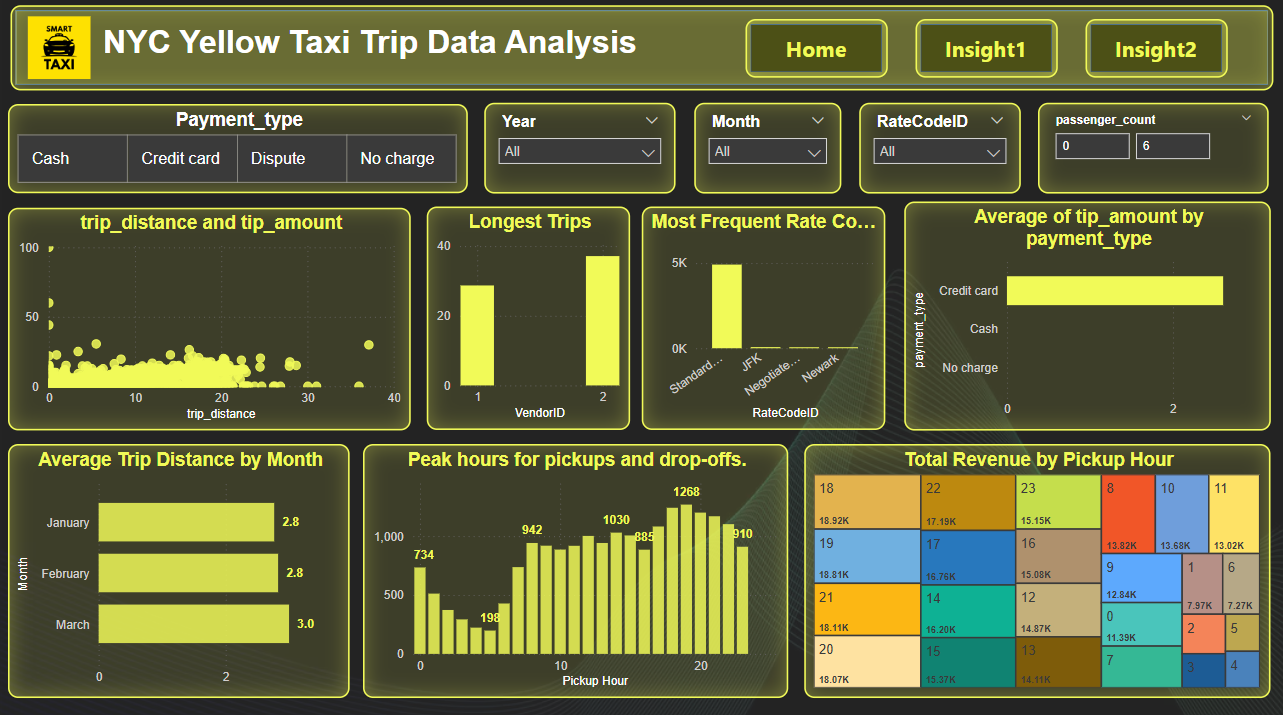

What the dashboard file says about the page in this screenshot:
{"tool":"powerbi","page":{"name":"Insight2","canvas":[1280,720],"ordinal":2},"visuals":[{"type":"shape","box":[12.3,10.8,1257,84.5],"z":0,"group":"g2"},{"type":"barChart","title":"Average Trip Distance by Month","fields":{"Category":["Append1.tpep_pickup_datetime.Variation.Date Hierarchy.Month"],"Y":["Avg(Append1.trip_distance)"]},"box":[9.4,448,340.3,252.9],"z":0},{"type":"shape","box":[743.7,24.6,141.4,58.4],"z":1000,"group":"g2"},{"type":"barChart","fields":{"Y":["Avg(Append1.tip_amount)"],"Category":["Append1.payment_type"]},"box":[901.8,206.1,364.4,228.2],"z":1000},{"type":"shape","box":[912.8,24.6,141.4,58.4],"z":2000,"group":"g2"},{"type":"scatterChart","fields":{"X":["Append1.trip_distance"],"Y":["Append1.tip_amount"]},"box":[9.4,212.3,401.2,221.7],"z":2000},{"type":"shape","box":[1081.8,24.6,141.4,58.4],"z":3000,"group":"g2"},{"type":"columnChart","title":"Most Frequent Rate Code","fields":{"Y":["CountNonNull(Append1.RateCodeID)"],"Category":["Append1.RateCodeID"]},"box":[641.2,212.1,242,222.1],"z":3000},{"type":"columnChart","title":"Longest Trips","fields":{"Category":["Append1.VendorID"],"Y":["Max(Append1.trip_distance)"]},"box":[426.7,212.1,202.1,222.1],"z":4000},{"type":"treemap","title":"Total Revenue by Pickup Hour","fields":{"Values":["Sum(Append1.total_amount)"],"Group":["Append1.Hour"]},"box":[802.3,448,463.6,252.9],"z":5000},{"type":"columnChart","title":"Peak hours for pickups and drop-offs.","fields":{"Category":["Append1.Hour"],"Y":["CountNonNull(Append1.tpep_dropoff_datetime)"]},"box":[363.7,448,423,252.9],"z":6000},{"type":"group","id":"g1","title":"Group 2","box":[12.3,10.8,1257,84.5],"z":7000},{"type":"slicer","fields":{"Values":["Append1.tpep_dropoff_datetime.Variation.Date Hierarchy.Year"]},"box":[484.3,107.7,190.4,90.5],"z":8000},{"type":"slicer","fields":{"Values":["Append1.tpep_dropoff_datetime.Variation.Date Hierarchy.Month"]},"box":[692.3,107.7,146.7,90.5],"z":9000},{"type":"slicer","fields":{"Values":["Append1.RateCodeID"]},"box":[856.6,107.7,160.8,90.5],"z":10000},{"type":"slicer","fields":{"Values":["Append1.passenger_count"]},"box":[1034.9,107.7,229.5,90.5],"z":11000},{"type":"advancedSlicerVisual","title":"Payment_type","fields":{"Values":["Append1.payment_type"]},"box":[9.4,109.3,457.4,89],"z":12000},{"type":"group","id":"g2","title":"Group 1","box":[12.3,10.8,1257,84.5],"z":15000,"group":"g1"},{"type":"image","box":[24.6,16.9,72.2,72.2],"z":16000,"group":"g1"},{"type":"textbox","box":[99.9,24.6,550.1,58.4],"z":17000,"group":"g1"}]}

Visuals, with their boxes in screenshot pixels (x1, y1, x2, y2), scaled from the page's 1280x720 canvas onto the 1283x715 screenshot:
shape: [left=12, top=11, right=1272, bottom=95]
"Average Trip Distance by Month" barChart: [left=9, top=445, right=351, bottom=696]
shape: [left=745, top=24, right=887, bottom=82]
barChart - Avg(Append1.tip_amount) x Append1.payment_type: [left=904, top=205, right=1269, bottom=431]
shape: [left=915, top=24, right=1057, bottom=82]
scatterChart - Append1.trip_distance x Append1.tip_amount: [left=9, top=211, right=412, bottom=431]
shape: [left=1084, top=24, right=1226, bottom=82]
"Most Frequent Rate Code" columnChart: [left=643, top=211, right=885, bottom=431]
"Longest Trips" columnChart: [left=428, top=211, right=630, bottom=431]
"Total Revenue by Pickup Hour" treemap: [left=804, top=445, right=1269, bottom=696]
"Peak hours for pickups and drop-offs." columnChart: [left=365, top=445, right=789, bottom=696]
"Group 2" group: [left=12, top=11, right=1272, bottom=95]
slicer - Append1.tpep_dropoff_datetime.Variation.Date Hierarchy.Year: [left=485, top=107, right=676, bottom=197]
slicer - Append1.tpep_dropoff_datetime.Variation.Date Hierarchy.Month: [left=694, top=107, right=841, bottom=197]
slicer - Append1.RateCodeID: [left=859, top=107, right=1020, bottom=197]
slicer - Append1.passenger_count: [left=1037, top=107, right=1267, bottom=197]
"Payment_type" advancedSlicerVisual: [left=9, top=109, right=468, bottom=197]
"Group 1" group: [left=12, top=11, right=1272, bottom=95]
image: [left=25, top=17, right=97, bottom=88]
textbox: [left=100, top=24, right=652, bottom=82]
